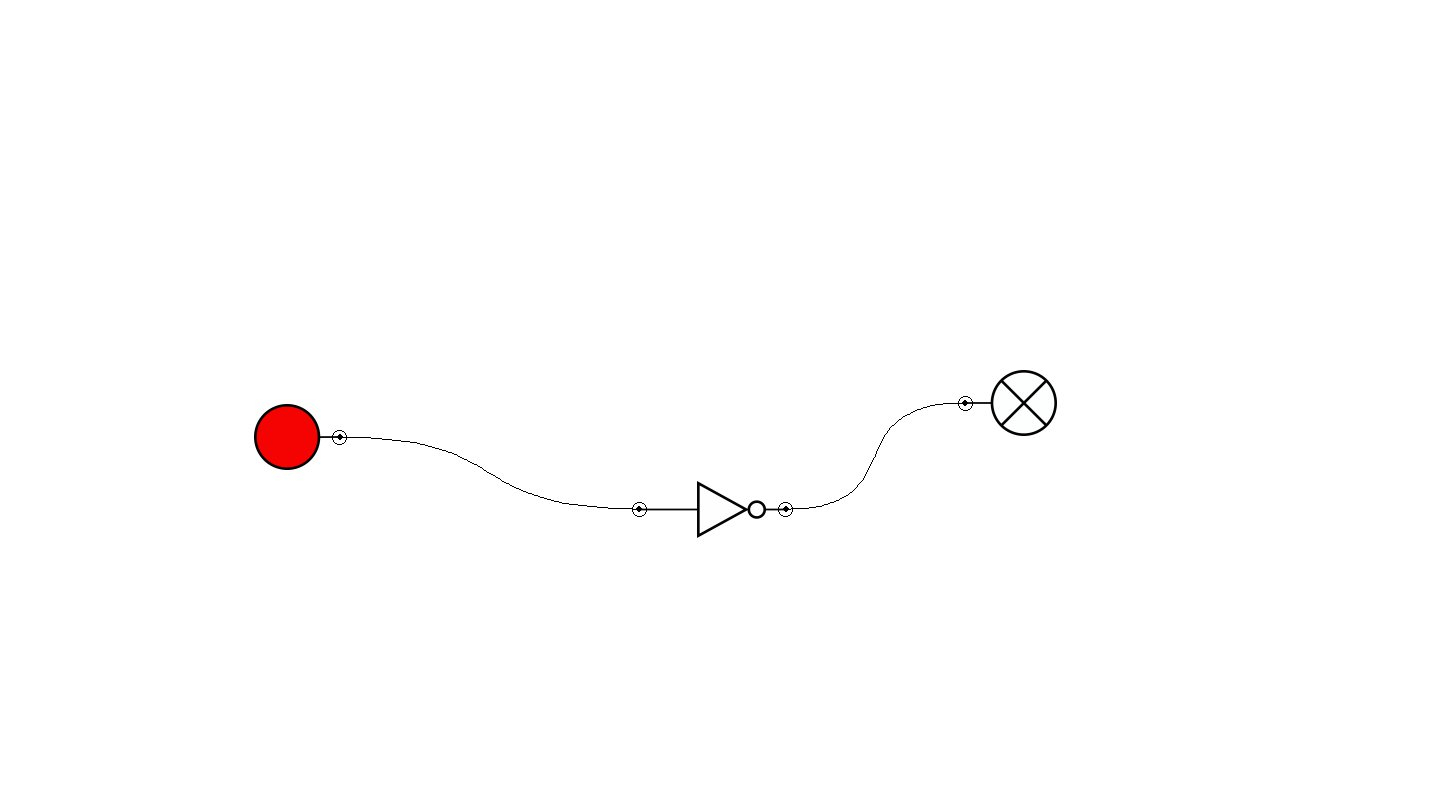bulb: (958, 370, 1057, 436)
not: (632, 481, 793, 538)
switch_False: (254, 404, 347, 470)
